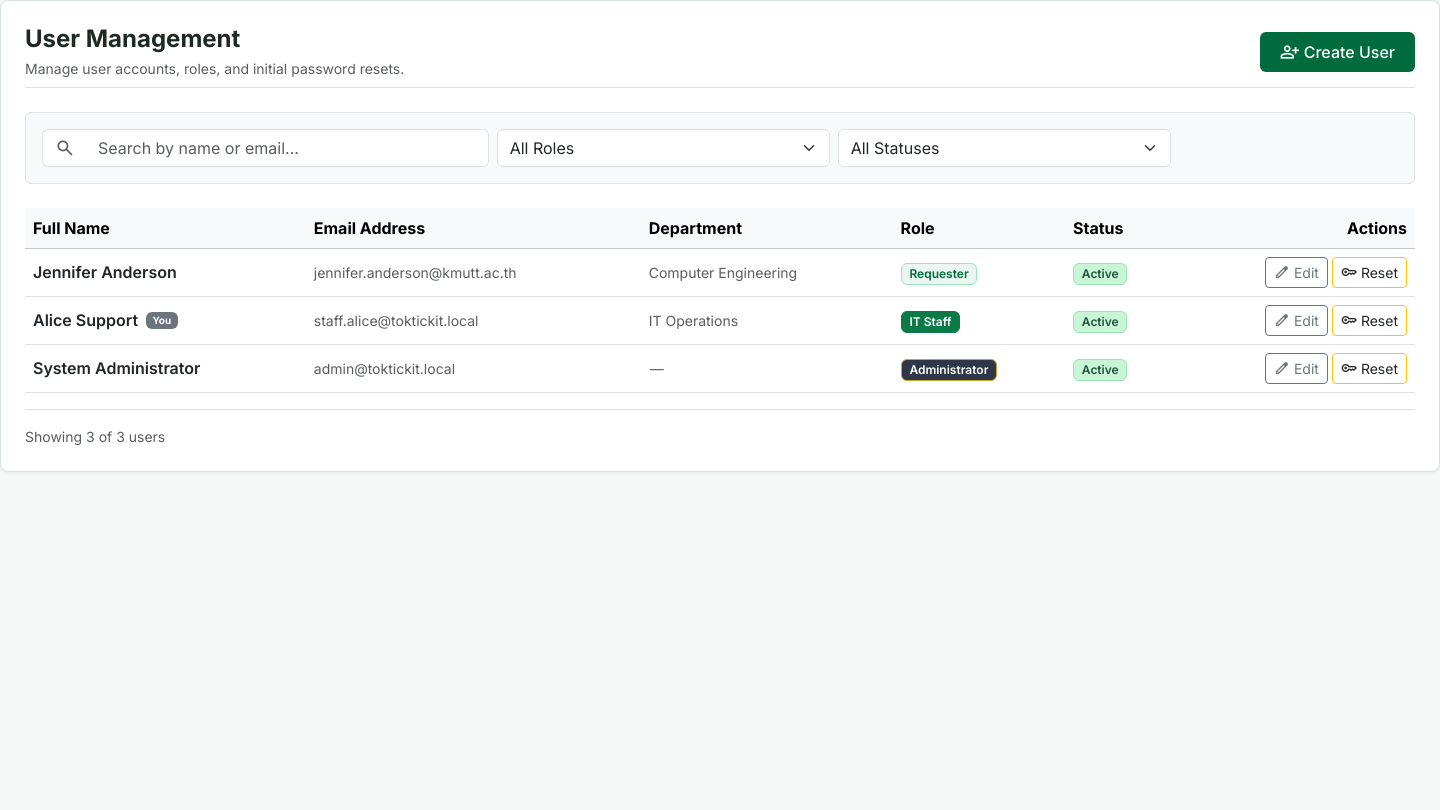
it: Lab 3 Admin User Management UI Suite (client/tests/lab-03/UserManagement.test.tsx) › disables the Active toggle and Role dropdown when editing the sole active Administrator account (AC-22, BR-09)
The image size is (1440, 810).
Check: the text "System Administrator" is shown, box x1=33 y1=358 x2=200 y2=378
// Open Edit modal for id: 10 (the only administrator)
Click the button with test id "edit-user-btn-10".
click(1296, 368)  # box x1=1265 y1=353 x2=1328 y2=384
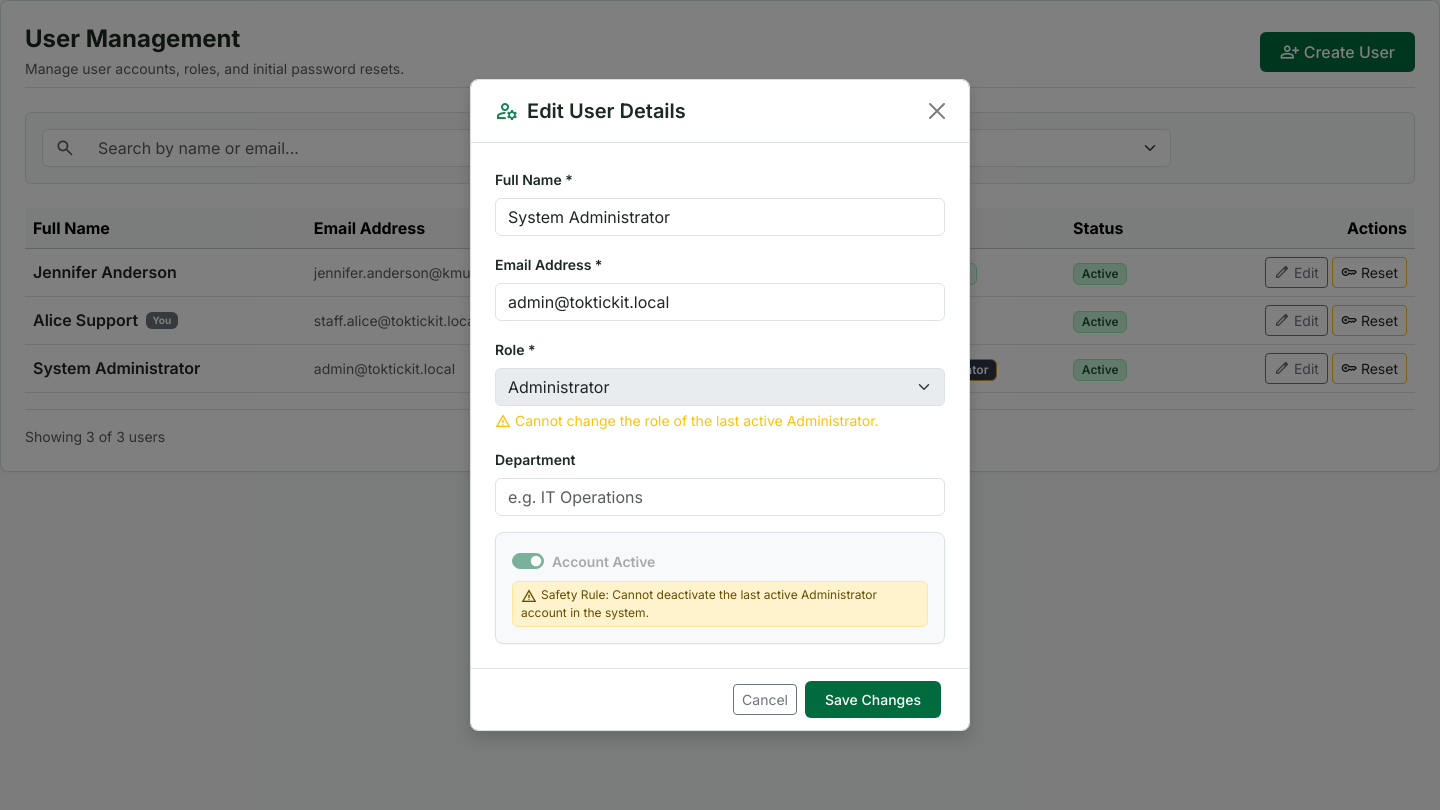
Check: the switch with test id "edit-active-switch" is disabled, box x1=512 y1=553 x2=544 y2=569
Check: the dropdown with test id "edit-role-select" is disabled, box x1=495 y1=368 x2=945 y2=406
Check: the text "Cannot change the role of the last active Administrator." is shown, box x1=495 y1=410 x2=945 y2=431
